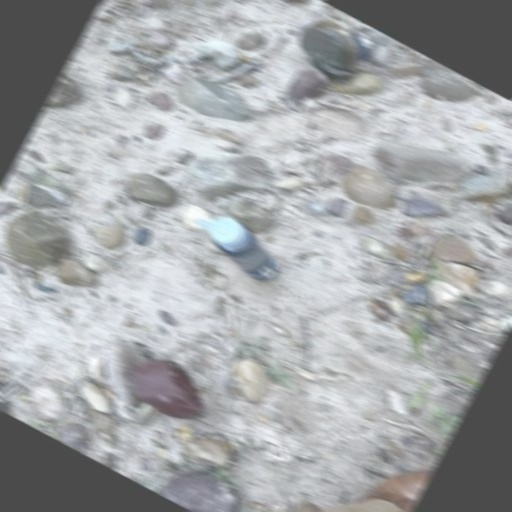bottle: (189, 205, 290, 289)
